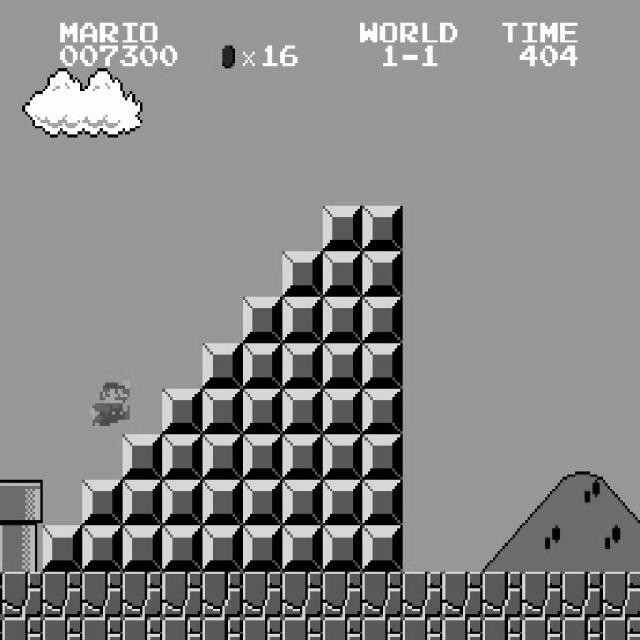11- little_mario: (88, 378, 130, 426)
14- pipe: (2, 526, 43, 572), (0, 525, 2, 571)
15- pipe_head: (2, 480, 43, 526), (0, 480, 2, 525)
17- undestructible_block: (2, 572, 43, 618), (42, 572, 83, 618), (82, 572, 123, 618), (122, 572, 163, 618), (162, 572, 203, 618), (202, 572, 243, 618), (242, 572, 283, 618), (282, 572, 323, 618), (322, 572, 363, 618), (362, 572, 403, 618), (402, 572, 443, 618), (442, 572, 483, 618), (482, 572, 523, 618), (522, 572, 563, 618), (562, 572, 603, 618), (603, 572, 640, 618), (2, 617, 43, 640), (42, 617, 83, 640), (82, 617, 123, 640), (122, 617, 163, 640), (162, 617, 203, 640), (202, 617, 243, 640), (242, 617, 283, 640), (282, 617, 323, 640), (322, 617, 363, 640), (362, 617, 403, 640), (402, 617, 443, 640), (442, 617, 483, 640), (482, 617, 523, 640), (522, 617, 563, 640), (562, 617, 603, 640), (603, 617, 640, 640), (0, 571, 2, 617), (0, 617, 2, 639)
9- hard_block: (42, 526, 83, 572), (82, 480, 123, 526), (82, 526, 123, 572), (122, 434, 163, 480), (122, 480, 163, 526), (122, 526, 163, 572), (162, 388, 203, 434), (162, 434, 203, 480), (162, 480, 203, 526), (162, 526, 203, 572), (202, 388, 243, 434), (202, 434, 243, 480), (202, 480, 243, 526), (202, 526, 243, 572), (242, 297, 283, 343), (242, 388, 283, 434), (242, 434, 283, 480), (242, 480, 283, 526), (242, 526, 283, 572), (282, 252, 323, 298), (282, 297, 323, 343), (282, 388, 323, 434), (282, 434, 323, 480), (282, 480, 323, 526), (282, 526, 323, 572), (322, 252, 363, 298), (322, 297, 363, 343), (322, 388, 363, 434), (322, 434, 363, 480), (322, 480, 363, 526), (322, 526, 363, 572), (362, 252, 403, 298), (362, 297, 403, 343), (362, 388, 403, 434), (362, 434, 403, 480), (362, 480, 403, 526), (362, 526, 403, 572), (202, 343, 243, 388), (242, 343, 283, 388), (282, 343, 323, 388), (322, 206, 363, 251), (322, 343, 363, 388), (362, 206, 403, 251), (362, 343, 403, 388)
